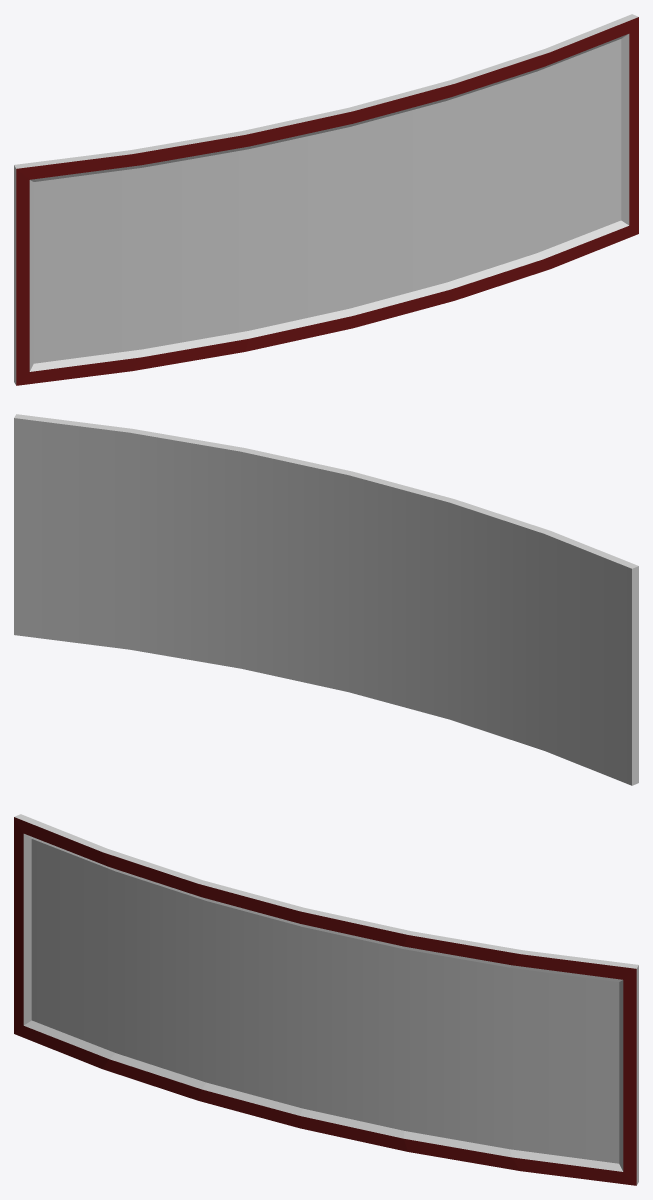
File: GameModeLetter.FBX
3 views of the same model, one above another, from view 1: azimuth 30°, elevation 25°; view 2: azimuth 150°, elevation 25°; view 3: azimuth 330°, elevation 25° (orthographic).
Visible parts, largest first — view 1: Rectangle001; view 2: Rectangle001; view 3: Rectangle001.
Boxes of the visible parts, x1,y1,x2,y2 form: Rectangle001: (14, 14, 638, 385); Rectangle001: (14, 414, 638, 785); Rectangle001: (14, 814, 638, 1185).
Size of the model in its own units: 597 by 199 by 49.56.
